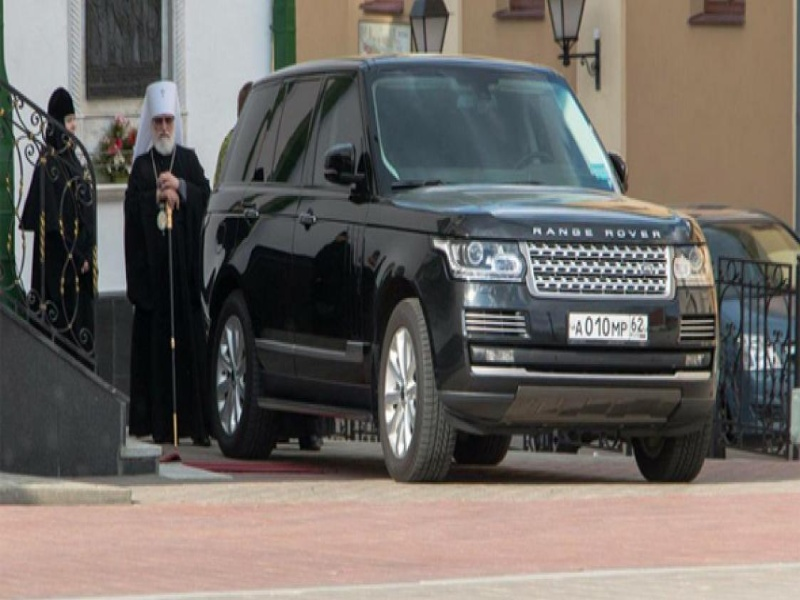car: (202, 56, 720, 483), (670, 206, 800, 445)
person: (124, 80, 212, 447), (18, 87, 95, 354)
plate: (570, 313, 648, 339)
